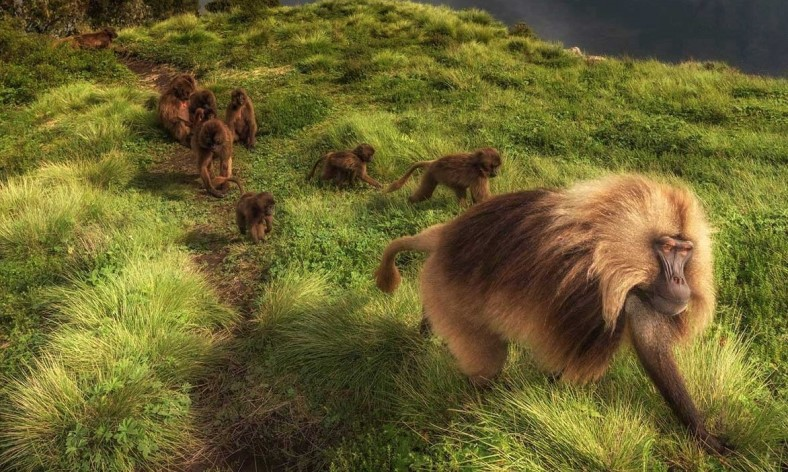Gelada: (443, 194, 712, 398), (405, 150, 504, 203), (318, 142, 378, 195), (194, 121, 236, 190), (231, 187, 280, 243), (159, 82, 195, 149), (231, 88, 265, 147), (67, 23, 120, 59), (195, 86, 217, 125)
